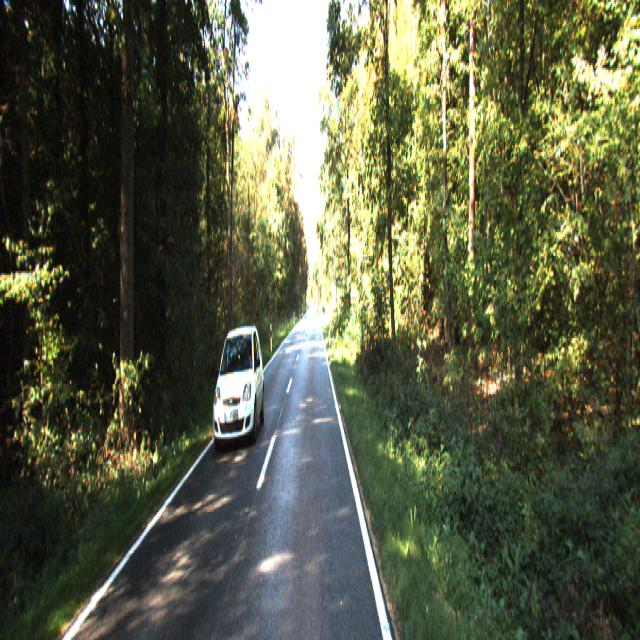Car: (210, 324, 266, 451)
